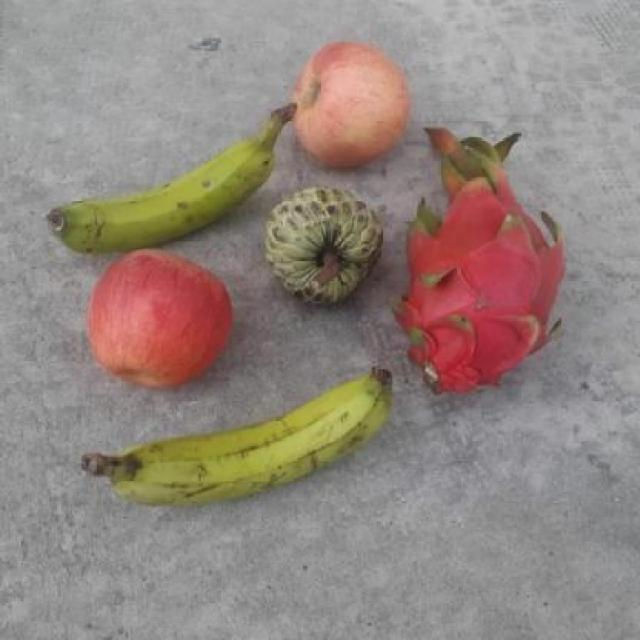apple: (292, 37, 413, 174)
banana: (79, 366, 396, 508), (46, 100, 297, 252)
dragon fruit: (384, 128, 568, 398)
sugar apple: (264, 184, 384, 305)
